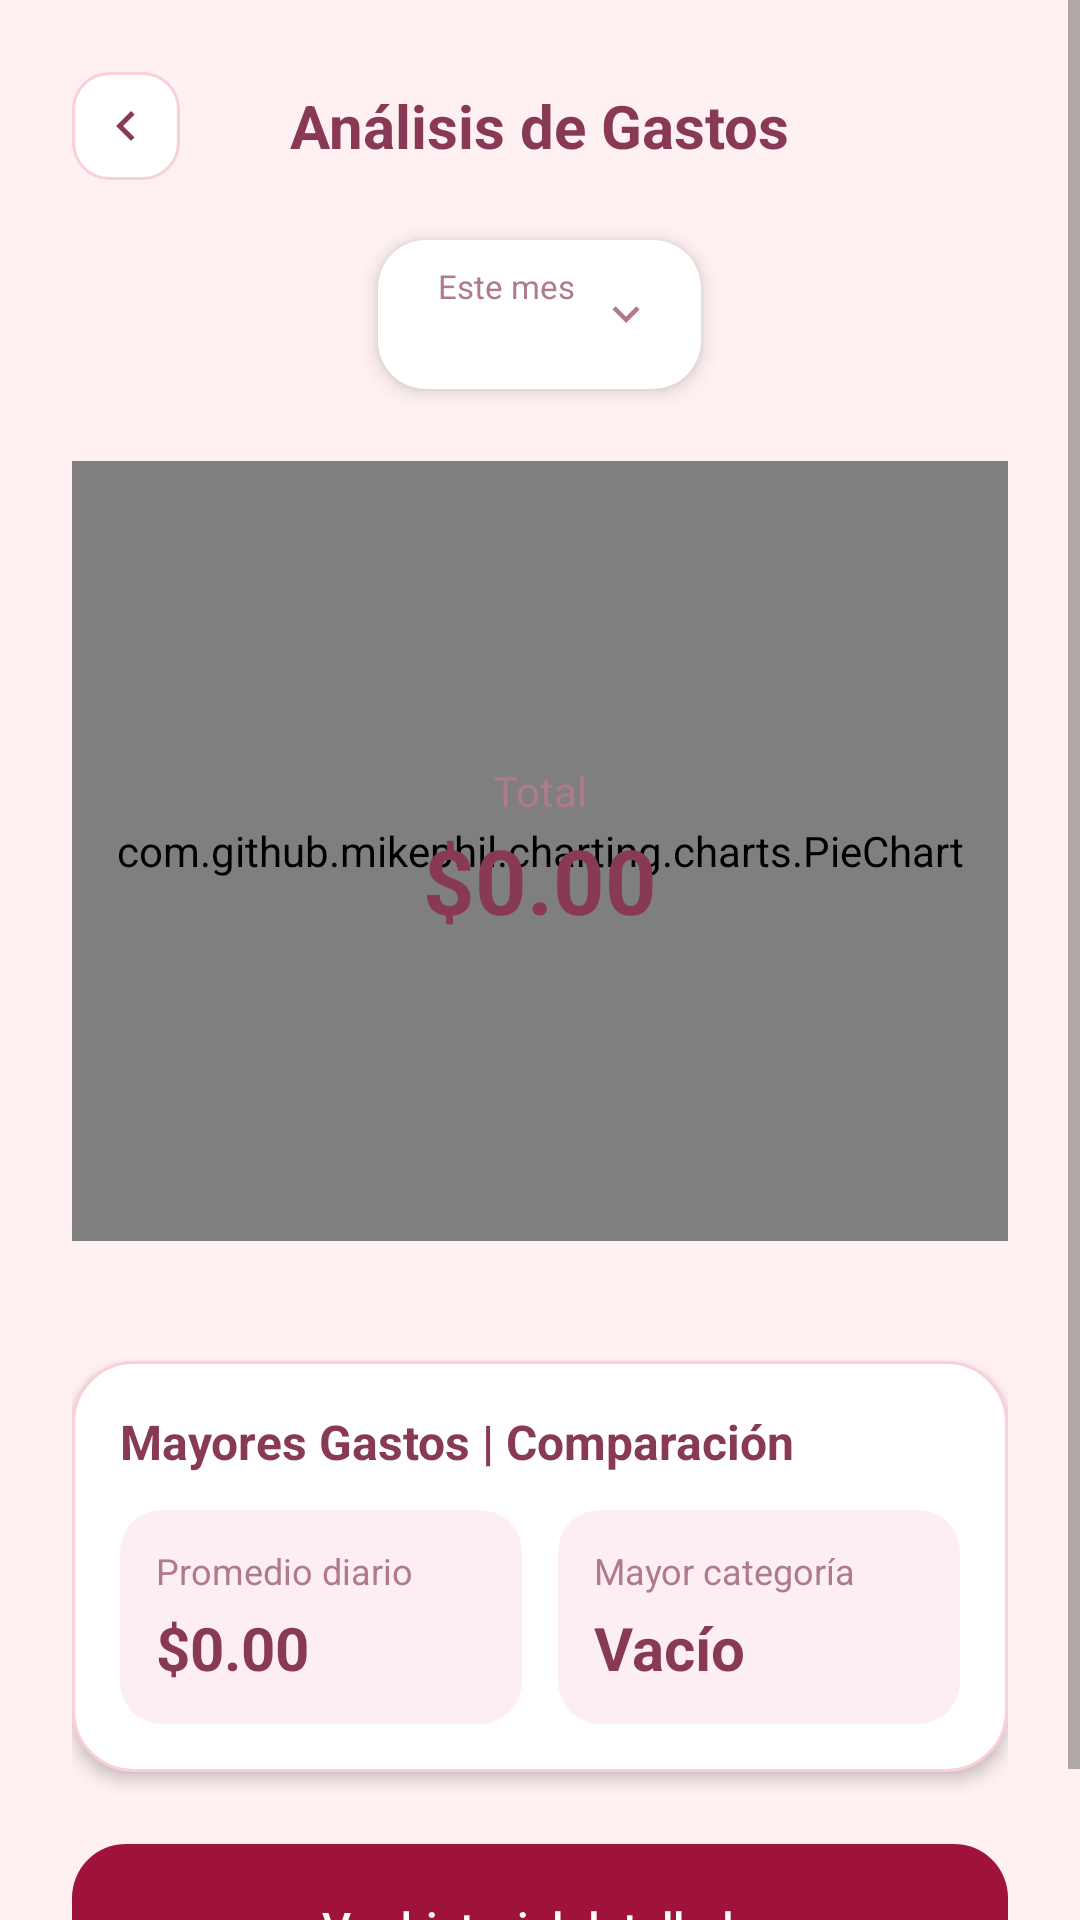

Where icons sit on this 1080*1920 app screen, as (x1, y1, x2, y2):
an back: (72, 72, 180, 180)
an chevron: (612, 306, 640, 323)
